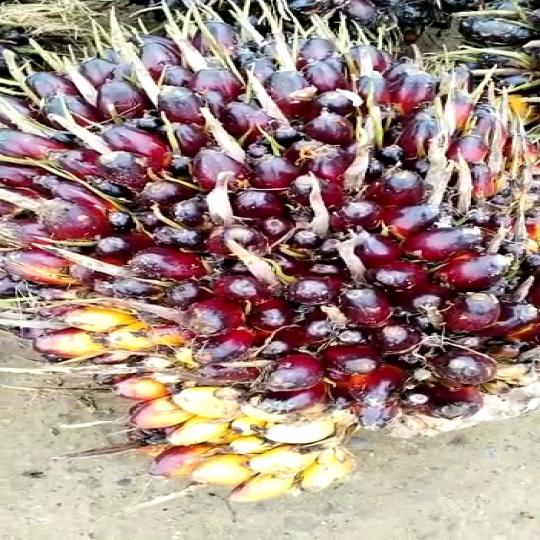mentah: (0, 6, 540, 514)
